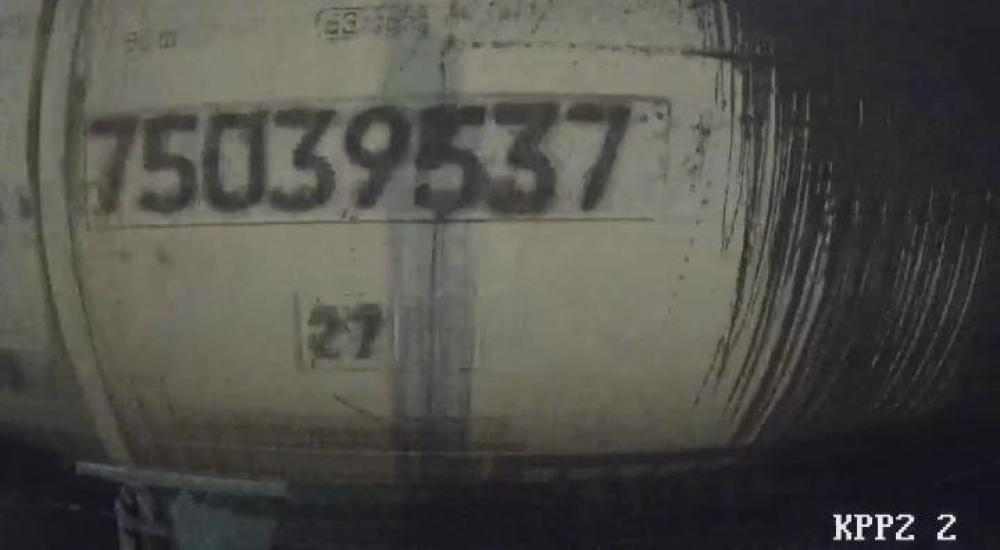Wagon-number: (82, 96, 642, 228)
